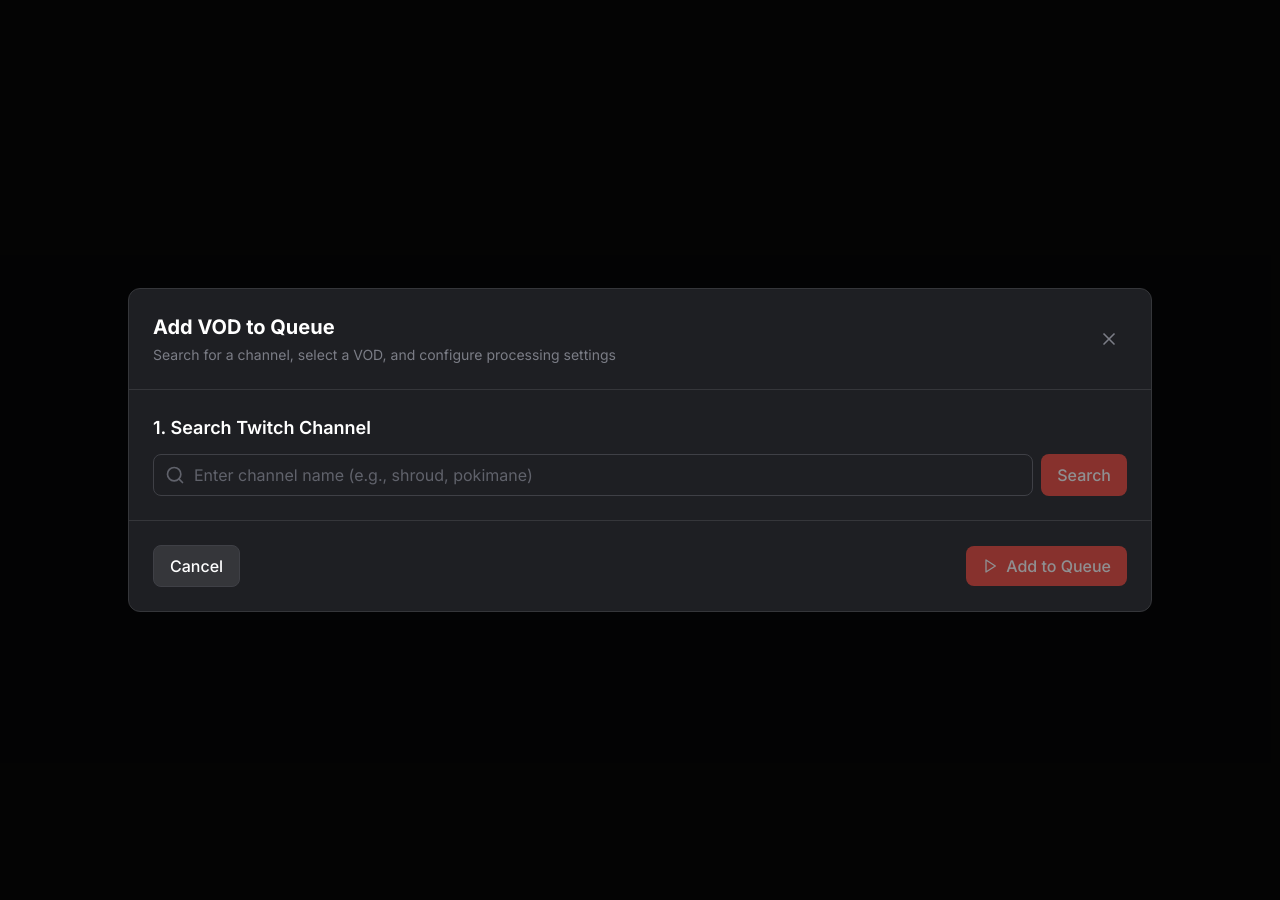
Test: VodBrowserModal › Channel Search › should display channel info after successful search
Type "shroud" into the field with placeholder "Enter channel name (e.g., shroud, pokimane)".
click(593, 475); type("shroud")  # box [153,454,1033,496]
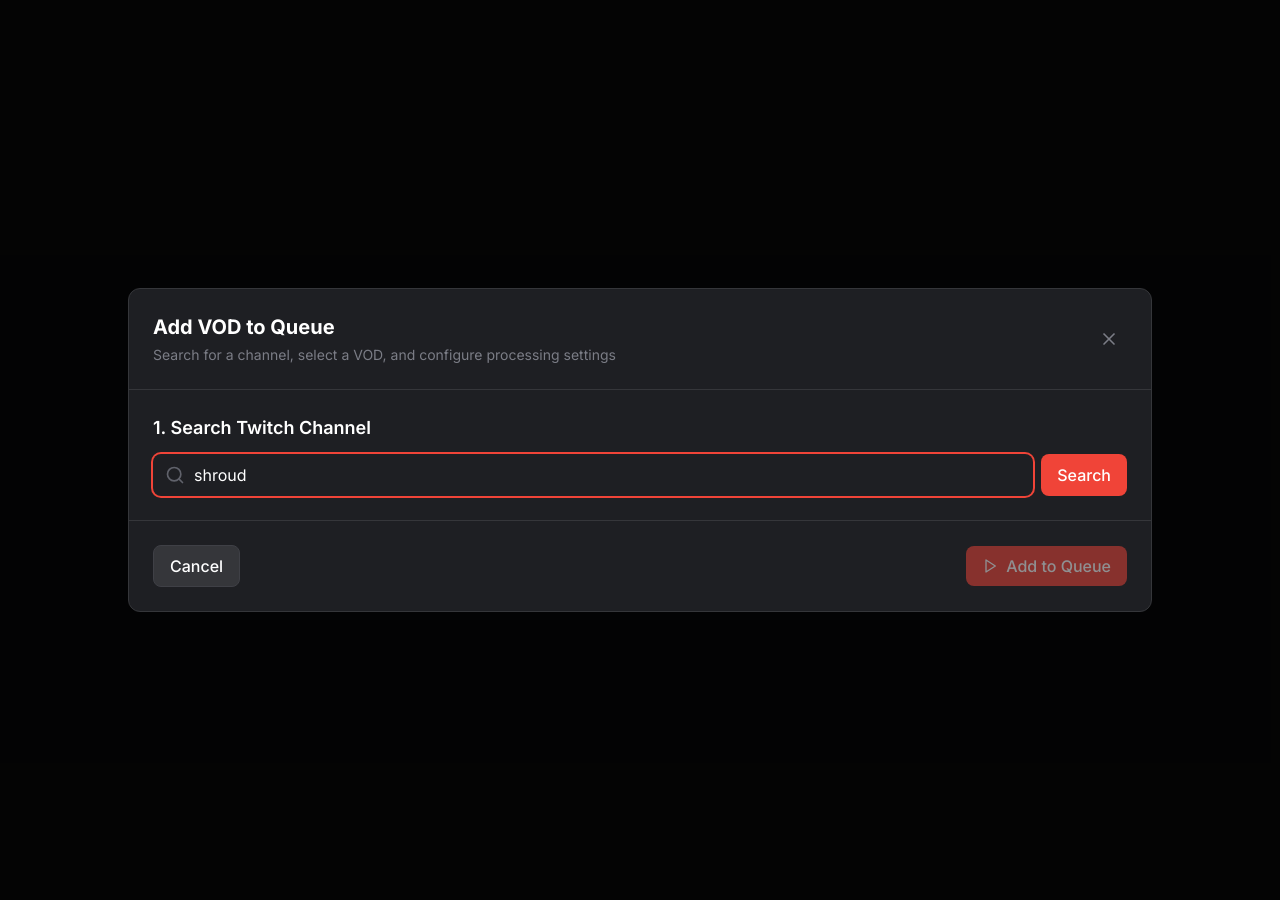
Click the button "Search".
click(1084, 475)  # box [1041,454,1127,496]
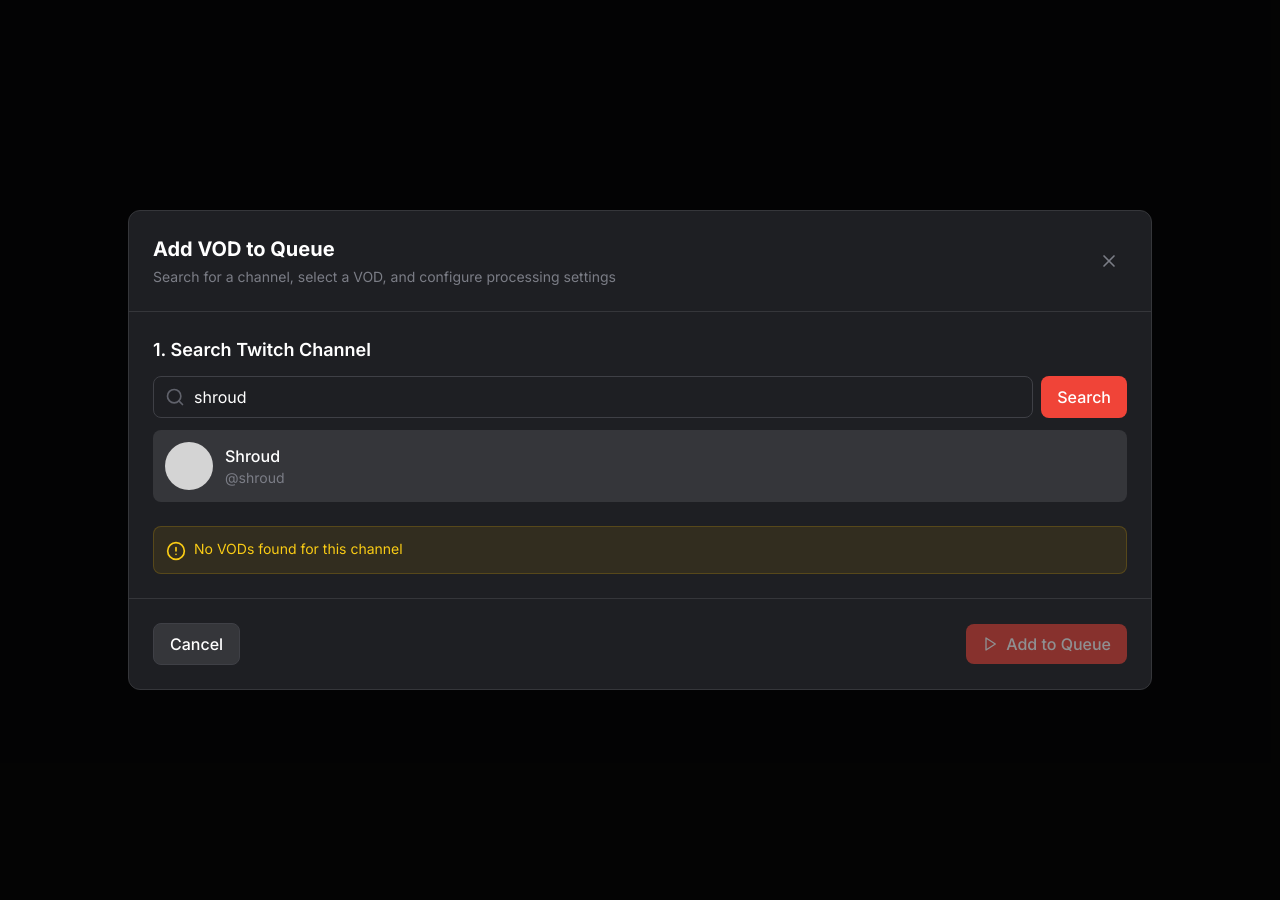
Expected: the text "Shroud" is shown, [225,444,284,468]
Expected: the text "@shroud" is shown, [225,468,284,488]
